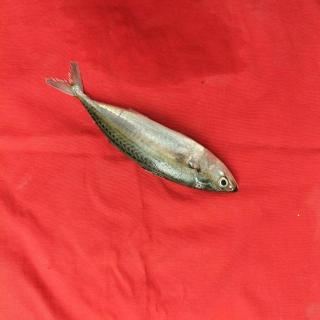Ikan: (40, 55, 244, 208)
